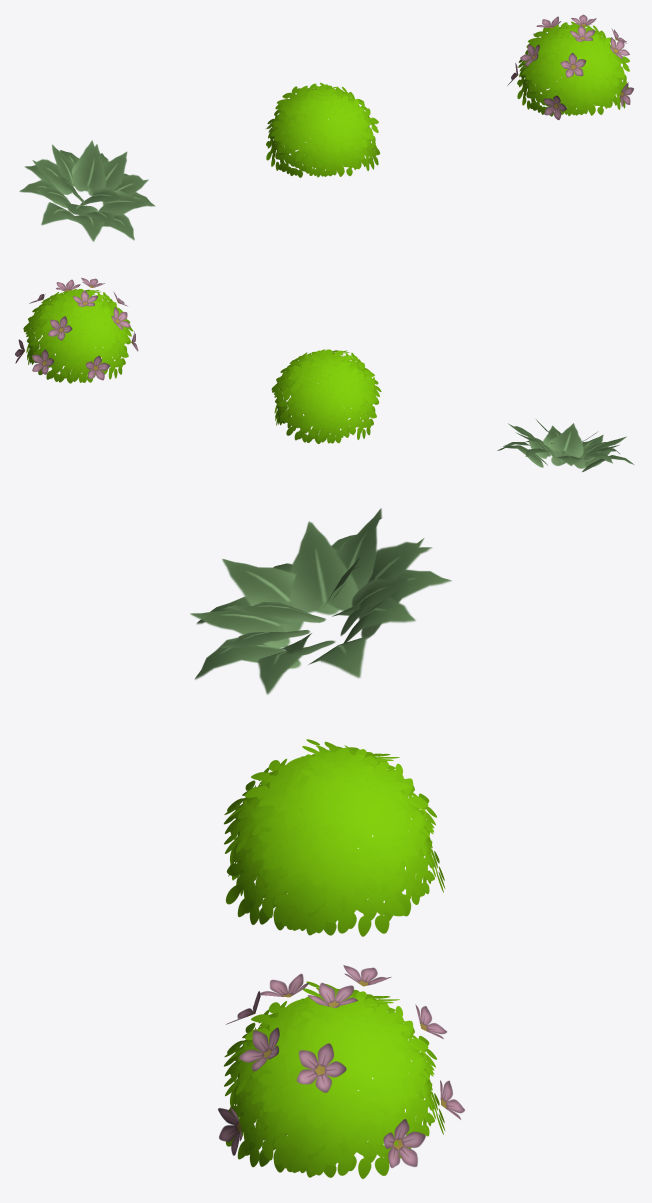
File: bushes.glb
3 renders of one model, top to bottom at view 1: azimuth 30°, elevation 25°; view 2: azimuth 150°, elevation 25°; view 3: azimuth 270°, elevation 25°, orthographic. The views are drawn at different scales.
Parts seen in each view (by area): view 1: Bush_Flowers, Bush, Plant_1; view 2: Bush_Flowers, Bush, Plant_1; view 3: Bush_Flowers, Bush, Plant_1.
Part boxes in pixels (x1=…): Bush_Flowers: x1=507, y1=14, x2=633, y2=119; Bush: x1=266, y1=82, x2=380, y2=177; Plant_1: x1=19, y1=140, x2=155, y2=241; Bush_Flowers: x1=15, y1=277, x2=138, y2=383; Bush: x1=271, y1=349, x2=381, y2=443; Plant_1: x1=497, y1=419, x2=634, y2=471; Bush_Flowers: x1=218, y1=965, x2=464, y2=1178; Bush: x1=224, y1=739, x2=445, y2=936; Plant_1: x1=190, y1=508, x2=451, y2=694.
Size of the model in its own units: 6.03 by 0.7975 by 1.23.
2 materials, 2 textured.
